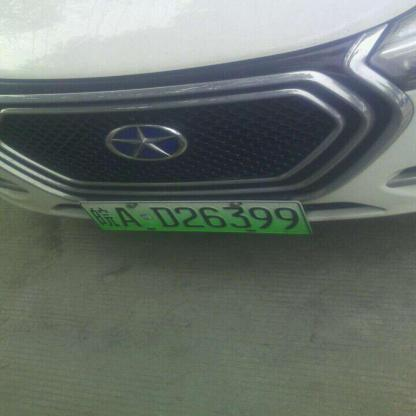lp: (80, 201, 311, 234)
